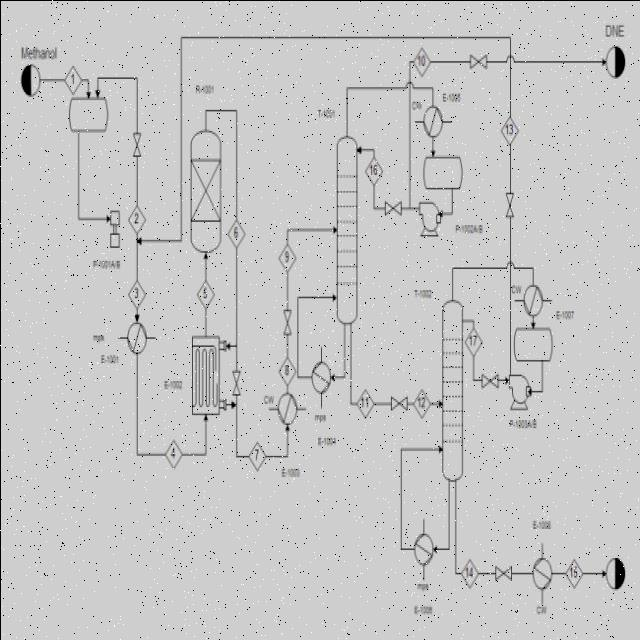Centrifugal Pump: (412, 184, 448, 244), (504, 366, 534, 420)
Gate Valve: (490, 556, 518, 592), (498, 179, 518, 228), (382, 382, 408, 417), (274, 298, 294, 340), (382, 186, 402, 220), (478, 366, 500, 396), (130, 124, 146, 164), (228, 366, 244, 401), (466, 48, 488, 72)
